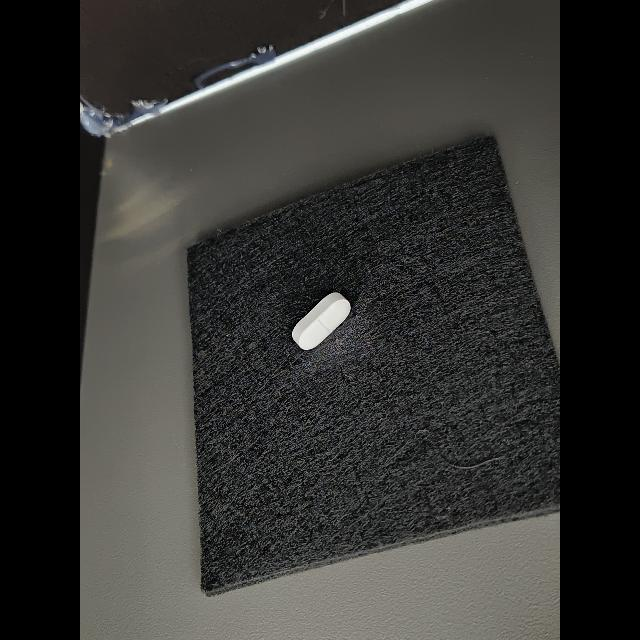Intact Pill: (292, 293, 350, 350)
